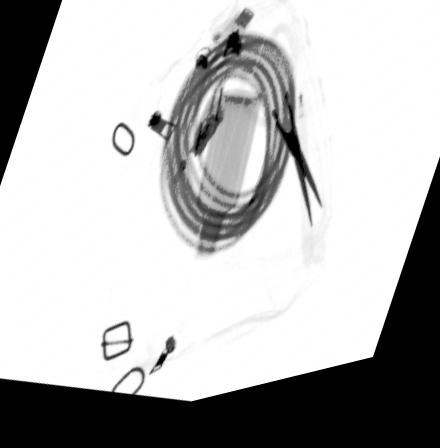Scissors: (238, 38, 325, 244)
